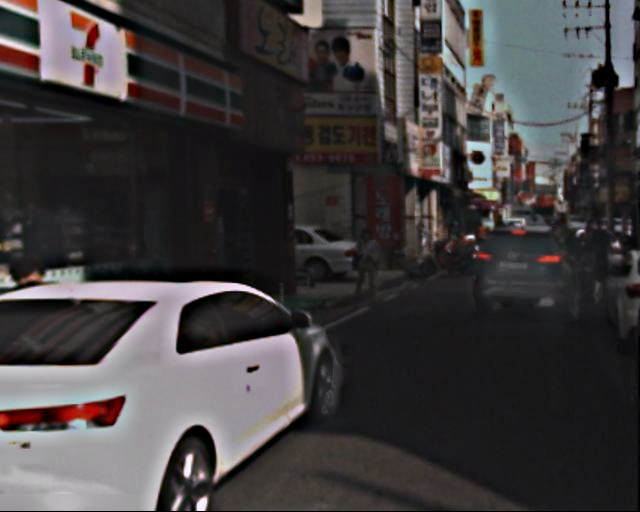person: (351, 228, 388, 303), (588, 218, 618, 285)
